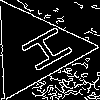H: (10, 24, 75, 79)
